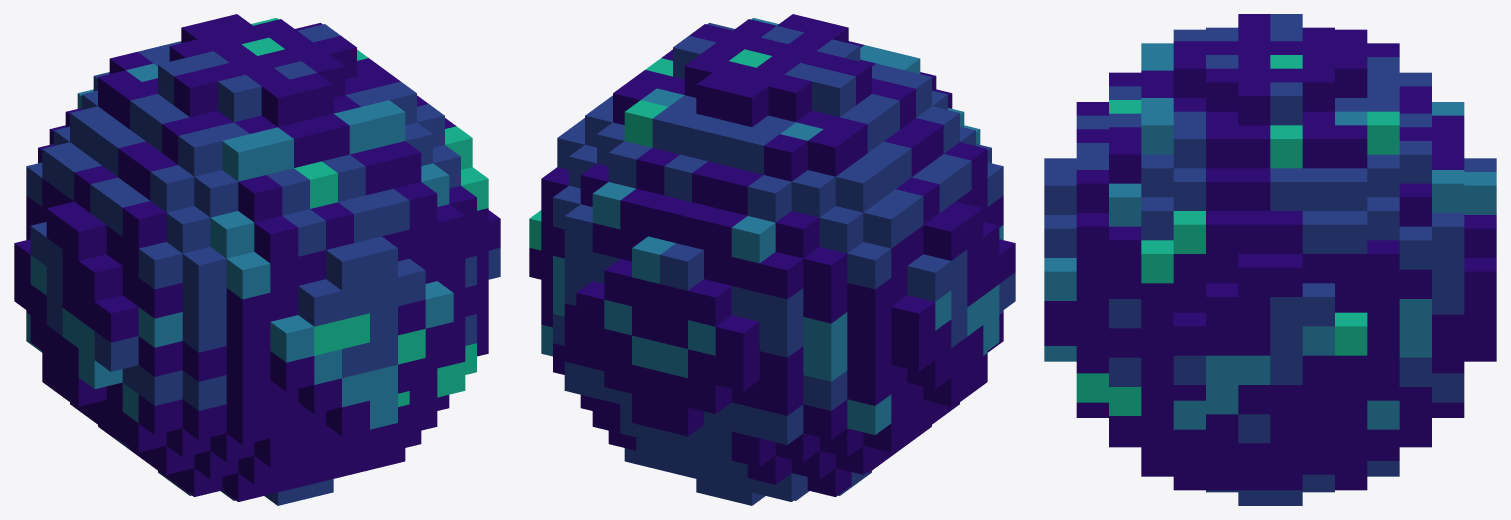
File: planetas-14-azuis.obj
The picture shows the model from 3 angles, left to right: view 1: azimuth 30°, elevation 25°; view 2: azimuth 150°, elevation 25°; view 3: azimuth 270°, elevation 25°; orthographic projection.
Bounding box in the file's own units: 1.4 × 1.4 × 1.4.
1 material, 1 textured.
